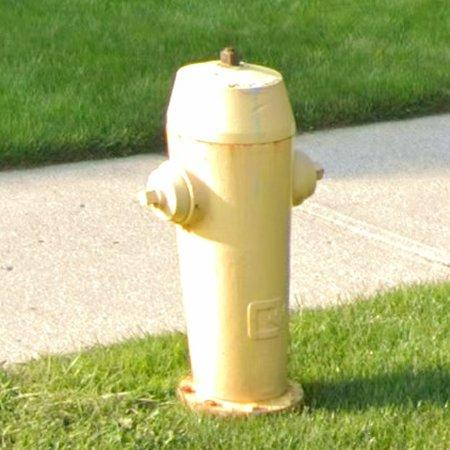a fire hydrant: (140, 48, 324, 416)
